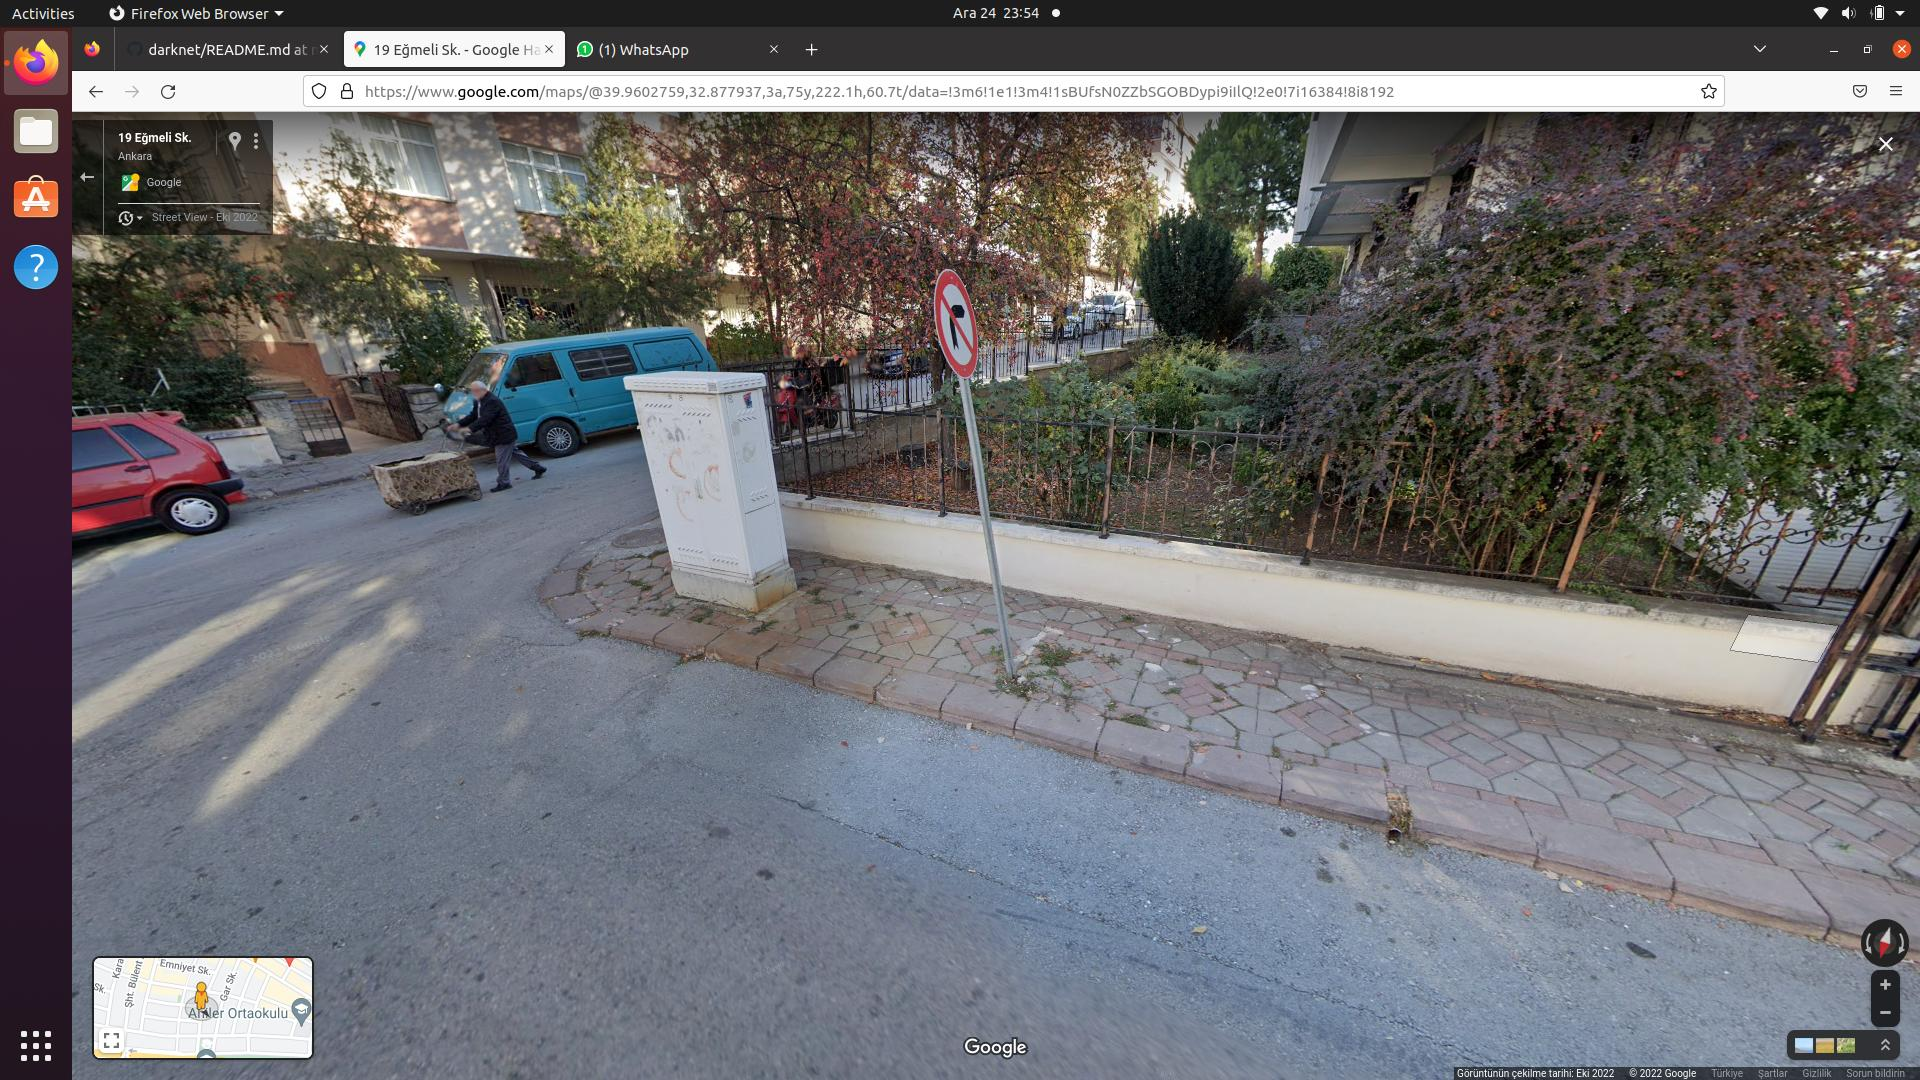rightturnsareforbidden: (928, 268, 981, 368)
